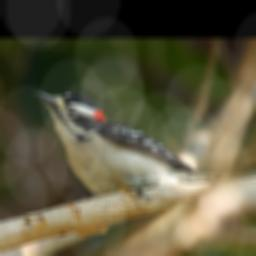Woodpecker: (31, 85, 238, 204)
